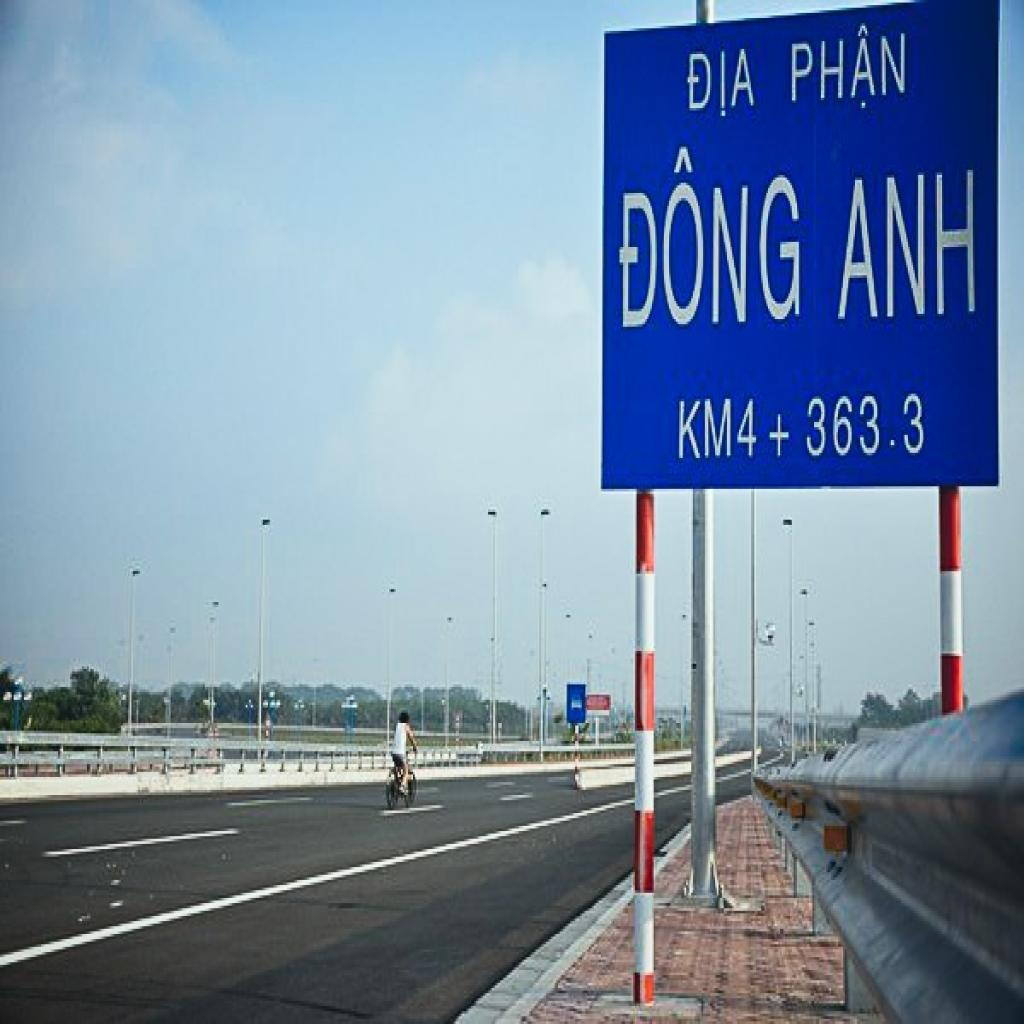text: (612, 146, 806, 334), (834, 167, 980, 324), (788, 26, 910, 118), (804, 389, 927, 463), (676, 391, 756, 468), (684, 44, 762, 121), (761, 407, 797, 463)
